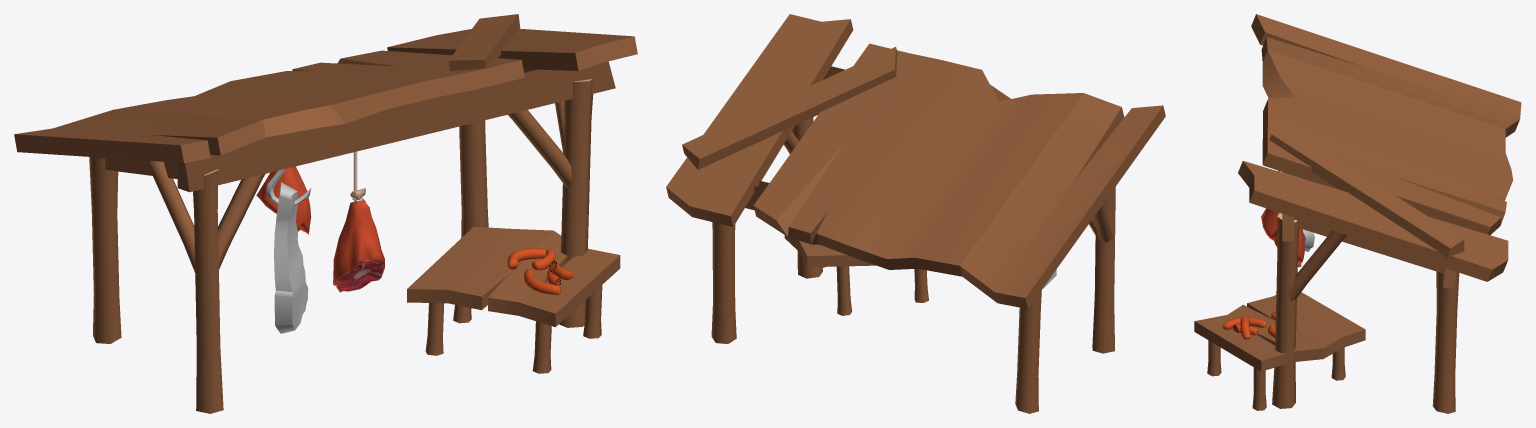
Rendered from food_station.fbx.
3 views of the same model, side by side, from view 1: azimuth 30°, elevation 25°; view 2: azimuth 150°, elevation 25°; view 3: azimuth 270°, elevation 25° (orthographic). The views are drawn at different scales.
Parts seen in each view (by area): view 1: pCube106, pCube83, pCube108, palisade_137, pCube107, palisade_138, palisade_140, meat_03, meat_04, palisade_139, pCube90, palisade_144 (+8 smaller); view 2: pCube106, pCube107, pCube90, palisade_139, palisade_137, palisade_140, pCube108, palisade_146, palisade_138, palisade_144, palisade_147; view 3: pCube106, pCube107, pCube108, pCube90, palisade_138, palisade_139, palisade_142, pCube101, meat_04, palisade_145, palisade_148, palisade_146 (+1 smaller).
Boxes of the visible parts, x1,y1,x2,y2 form: pCube106: (14,50,524,162); pCube83: (177,61,615,192); pCube108: (407,226,620,327); palisade_137: (193,169,223,413); pCube107: (387,28,637,70); palisade_138: (559,78,593,327); palisade_140: (89,157,121,343); meat_03: (266,168,311,333); meat_04: (333,151,384,292); palisade_139: (459,120,488,237); pCube90: (448,14,520,71); palisade_144: (145,160,195,272); pCube106: (753,43,1165,308); pCube107: (666,14,853,226); pCube90: (682,46,897,169); palisade_139: (711,222,736,343); palisade_137: (1092,186,1115,353); palisade_140: (1015,290,1041,413); pCube108: (784,235,875,267); palisade_146: (836,266,851,315); palisade_138: (792,117,822,278); palisade_144: (1093,203,1113,242); palisade_147: (914,268,928,302); pCube106: (1251,14,1521,235); pCube107: (1238,161,1508,281); pCube108: (1194,292,1365,371); pCube90: (1269,134,1464,257); palisade_138: (1272,213,1299,408); palisade_139: (1432,271,1459,413); palisade_142: (1288,230,1347,301); pCube101: (1294,217,1456,274); meat_04: (1261,170,1304,264); palisade_145: (1252,367,1266,410); palisade_148: (1207,340,1221,376); palisade_146: (1331,347,1345,380).
Size of the model in its own units: 449 by 281 by 348.
